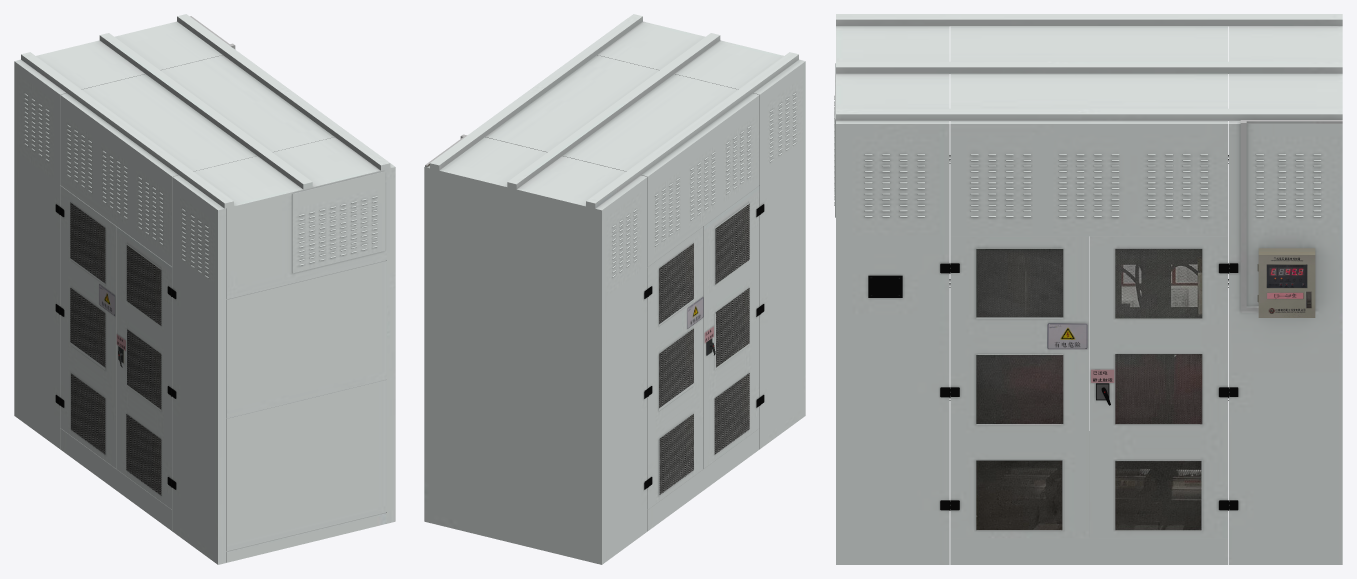
Rendered from LX_diangui2.glb.
3 renders of one model, left to right at view 1: azimuth 30°, elevation 25°; view 2: azimuth 150°, elevation 25°; view 3: azimuth 270°, elevation 25°, orthographic. The views are drawn at different scales.
Bounding box in the file's own units: 1.15 × 2.06 × 2.12.
Materials: 1 (1 with a texture image).
